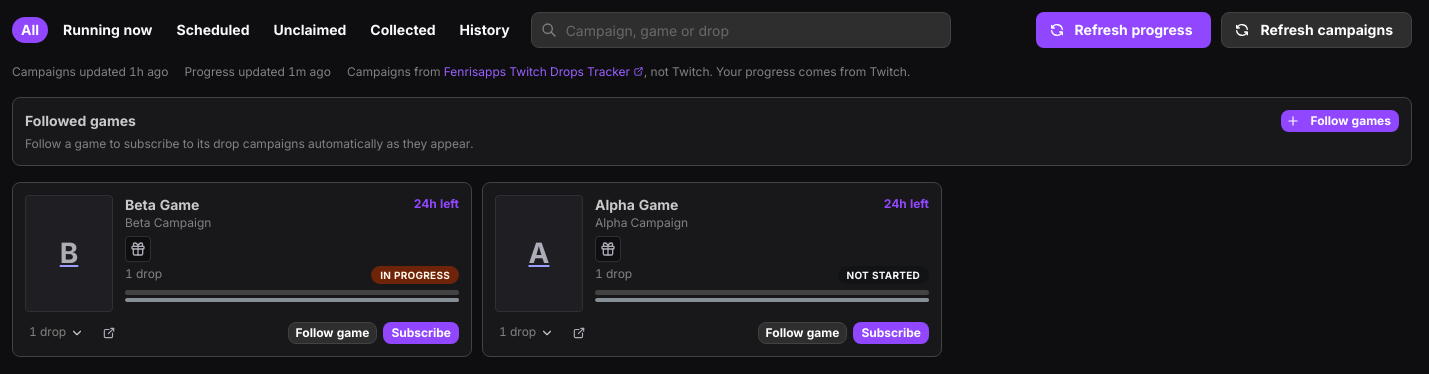
Test: says so when a filter matches nothing
Expected: the text "Alpha Campaign" is shown, top-left (595, 215), bottom-right (688, 232)
Type "nothing matches this" into the field named "filter".
click(741, 30); type("nothing matches this")  # box top-left (531, 12), bottom-right (951, 48)
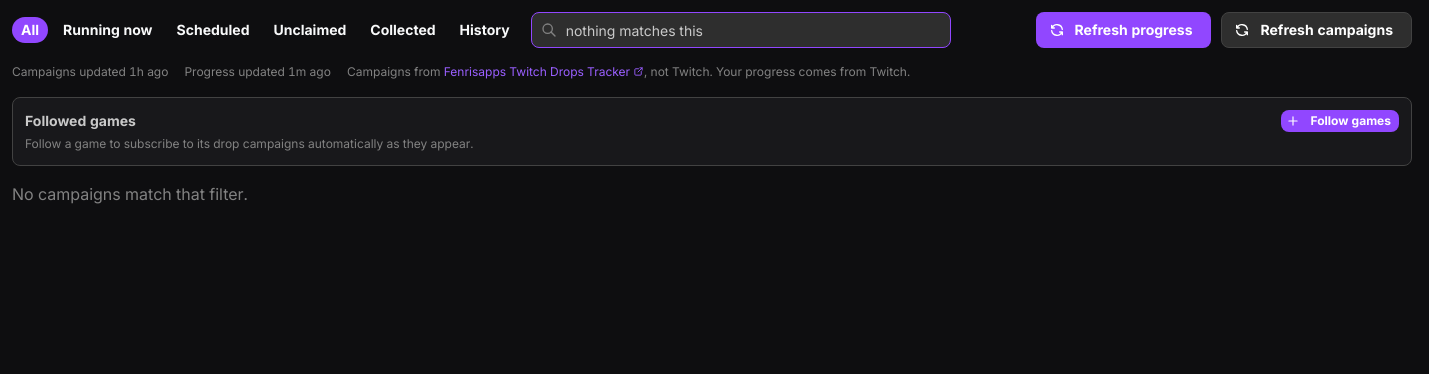
Expected: the text "No campaigns match that filter." is shown, top-left (12, 184), bottom-right (248, 204)
